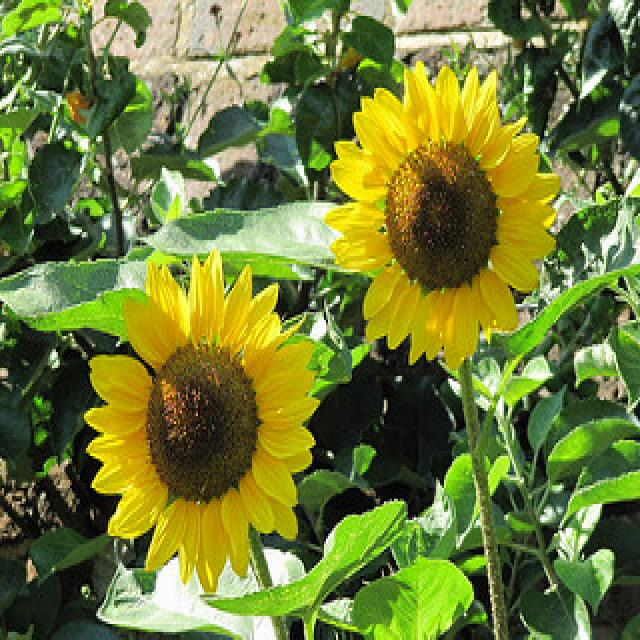sunflower: (78, 241, 324, 591), (327, 63, 565, 364)
